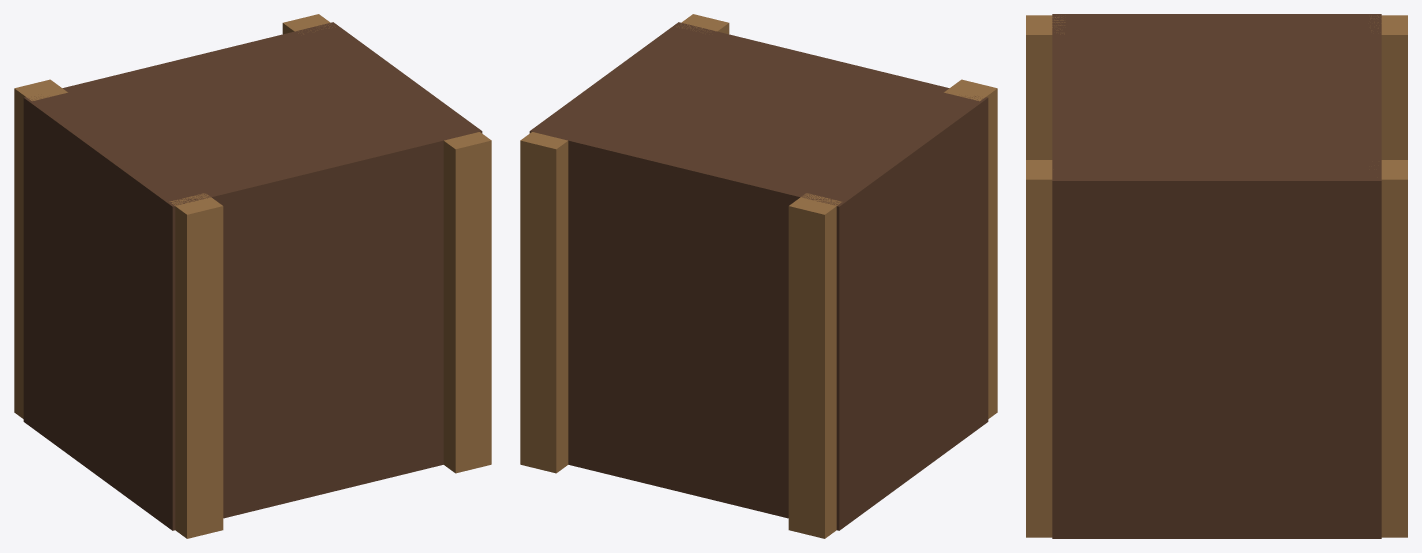
Rendered from PirateCove_SupplyCrate_Simple.glb.
3 views of the same model, side by side, from view 1: azimuth 30°, elevation 25°; view 2: azimuth 150°, elevation 25°; view 3: azimuth 270°, elevation 25° (orthographic). The views are drawn at different scales.
Visible parts, largest first — view 1: PirateCove_SupplyCrate_Simple; view 2: PirateCove_SupplyCrate_Simple; view 3: PirateCove_SupplyCrate_Simple.
Boxes of the visible parts, <box> form: PirateCove_SupplyCrate_Simple: <box>14,14,491,538</box>; PirateCove_SupplyCrate_Simple: <box>520,14,997,538</box>; PirateCove_SupplyCrate_Simple: <box>1026,14,1407,538</box>.
Bounding box in the file's own units: 1.2 × 1.2 × 1.16.
